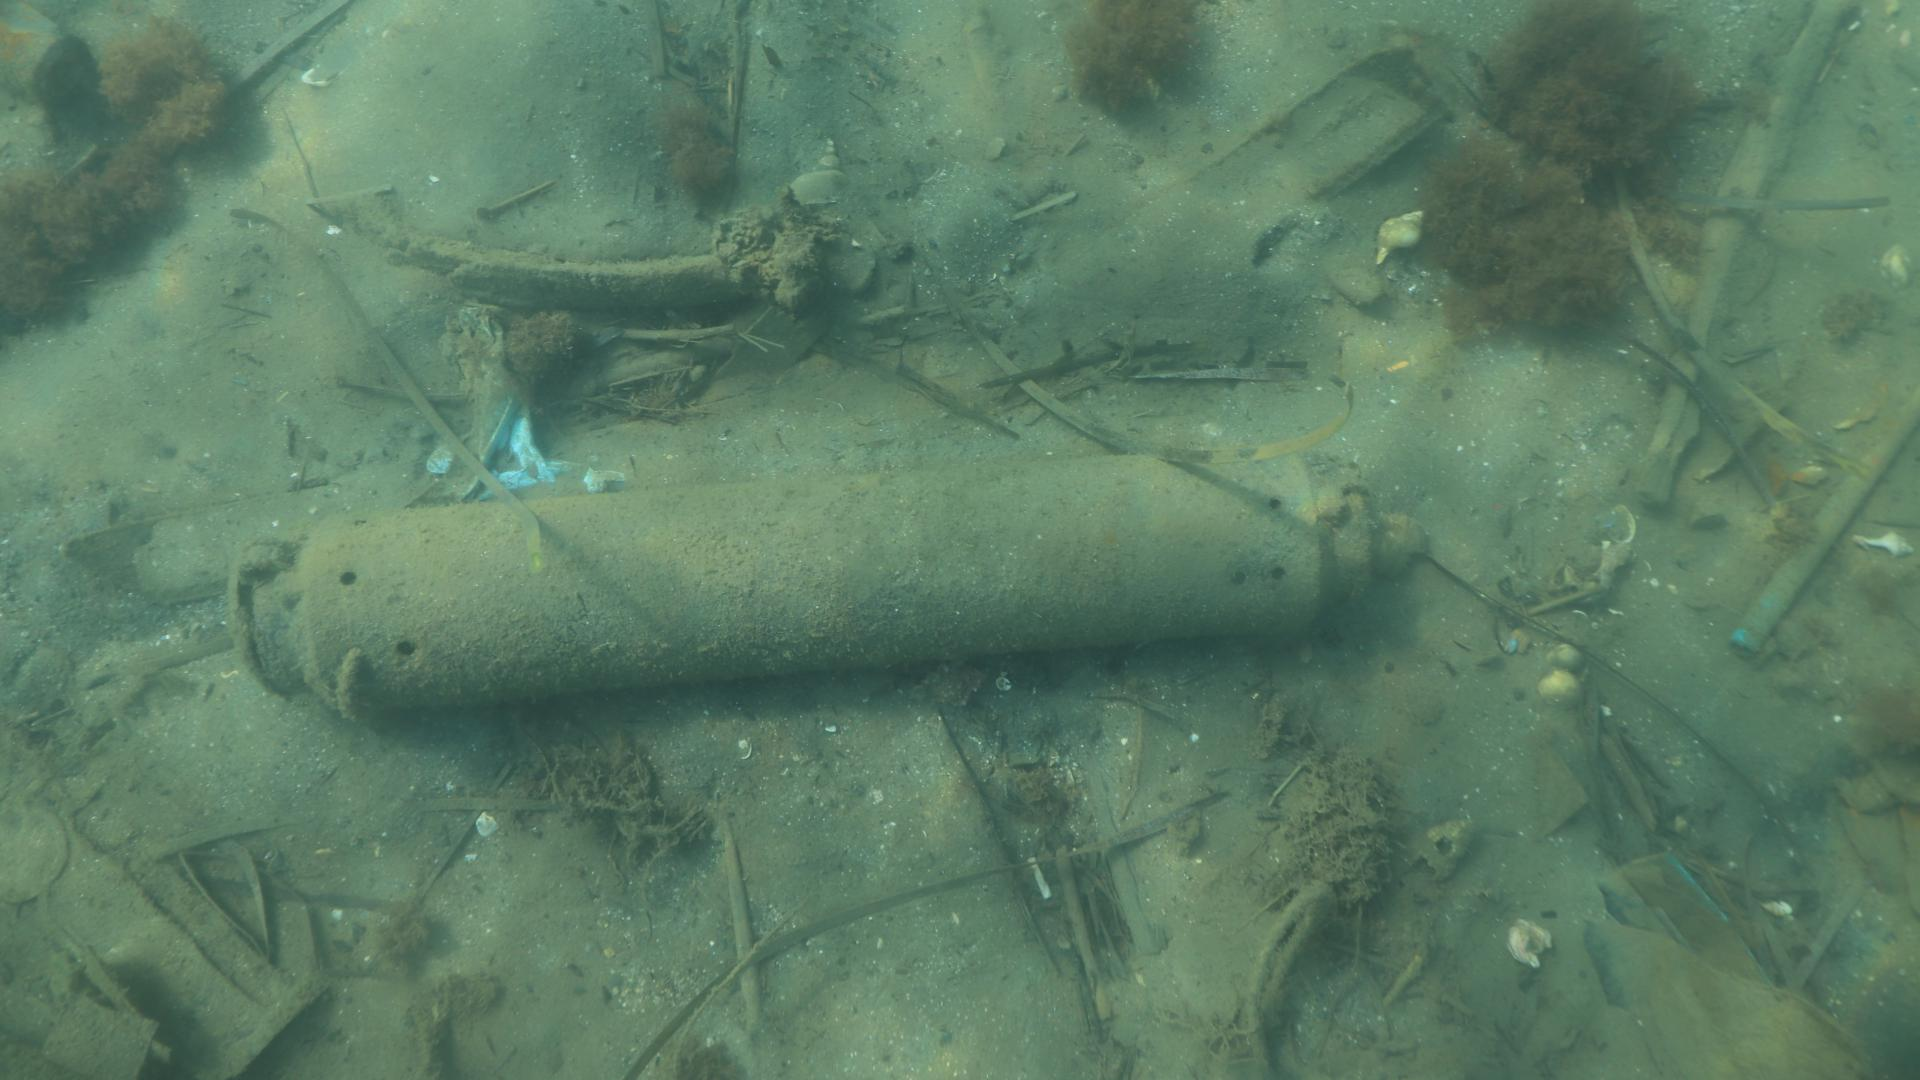eel fish trap: (227, 444, 1420, 733)
